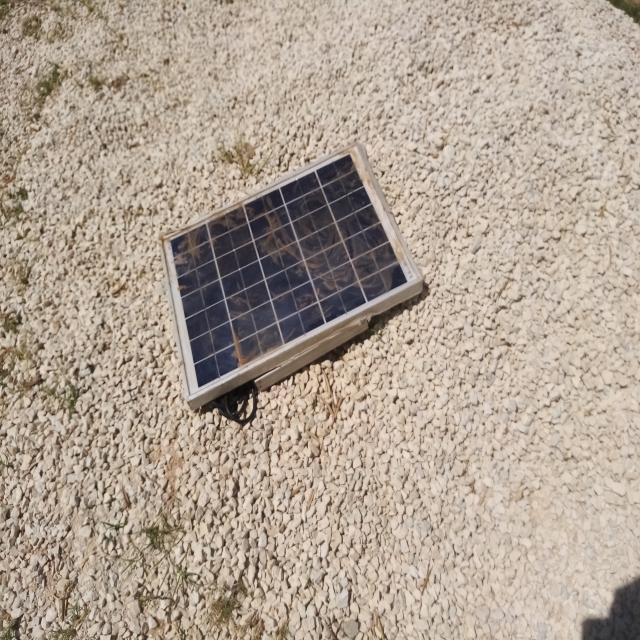faulty: (160, 143, 421, 397)
